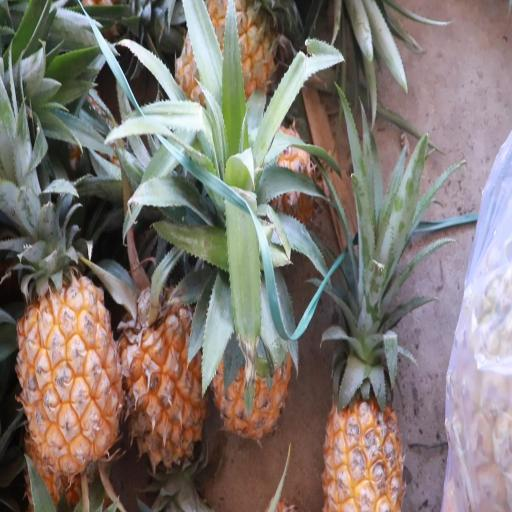Pineapple - v8 v1: (15, 258, 130, 478), (118, 276, 213, 477), (210, 255, 296, 458), (170, 0, 280, 154), (320, 339, 408, 512)
